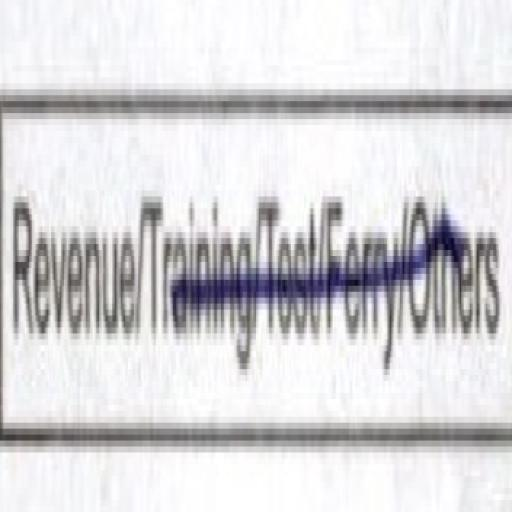check: (0, 41, 139, 512)
